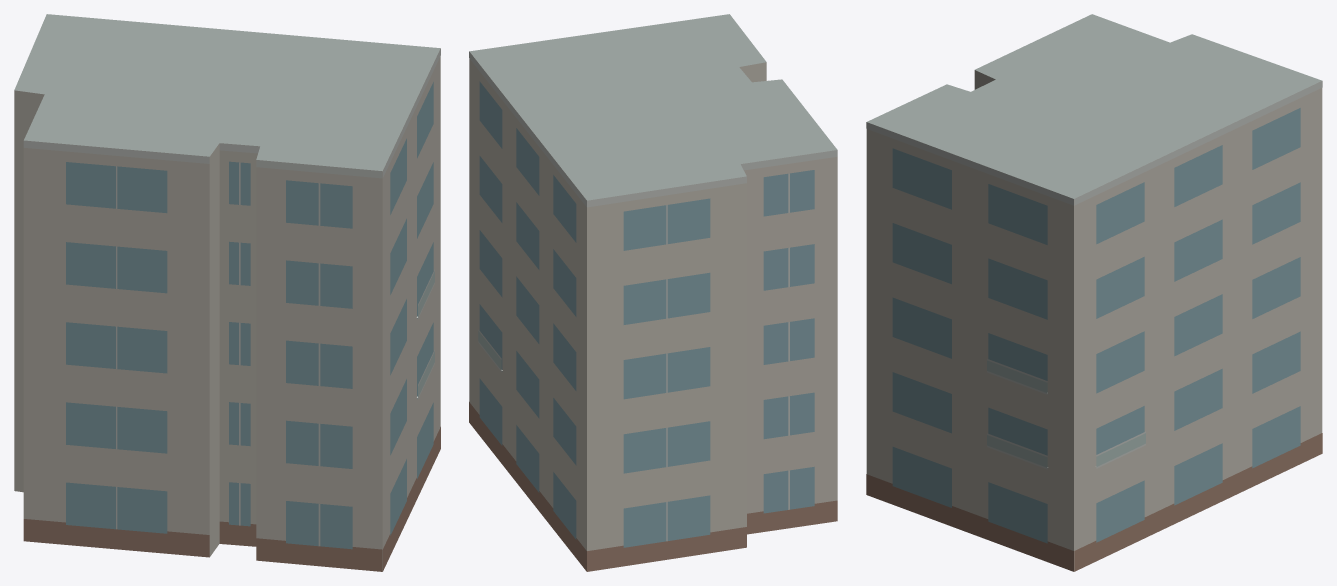
File: survey-upis-32527190.glb
The picture shows the model from 3 angles, left to right: view 1: azimuth 30°, elevation 25°; view 2: azimuth 150°, elevation 25°; view 3: azimuth 270°, elevation 25°; orthographic projection. The views are drawn at different scales.
Visible parts, largest first — view 1: survey-upis-32527190.tmp; view 2: survey-upis-32527190.tmp; view 3: survey-upis-32527190.tmp.
Part boxes in pixels (<box>): survey-upis-32527190.tmp: <box>14,14,440,571</box>; survey-upis-32527190.tmp: <box>469,14,837,571</box>; survey-upis-32527190.tmp: <box>866,14,1322,571</box>.
Bounding box in the file's own units: 14.22 × 13.36 × 14.81.
